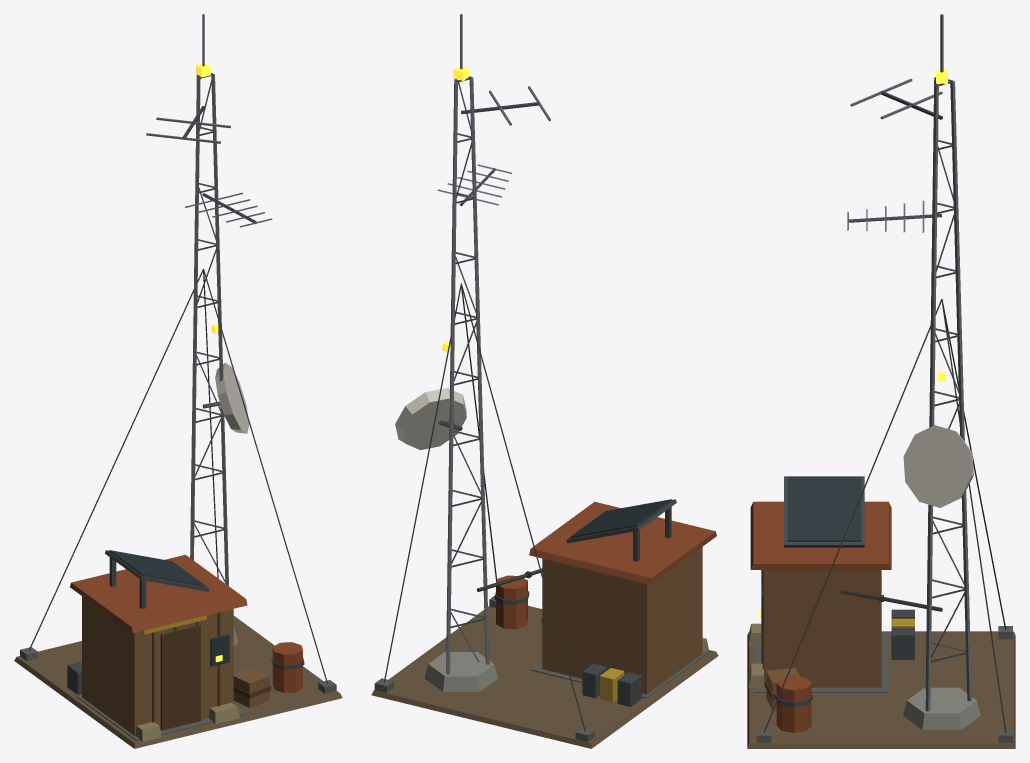
Rendered from radio_mast_l2.glb.
3 renders of one model, left to right at view 1: azimuth 30°, elevation 25°; view 2: azimuth 150°, elevation 25°; view 3: azimuth 270°, elevation 25°, orthographic. The views are drawn at different scales.
Visible parts, largest first — view 1: radio_mast_l2_mesh; view 2: radio_mast_l2_mesh; view 3: radio_mast_l2_mesh.
Part boxes in pixels (x1,y1,x2,y2): radio_mast_l2_mesh: [14, 14, 342, 748]; radio_mast_l2_mesh: [371, 14, 718, 748]; radio_mast_l2_mesh: [747, 14, 1015, 748].
Bounding box in the file's own units: 4 × 11.6 × 4.
